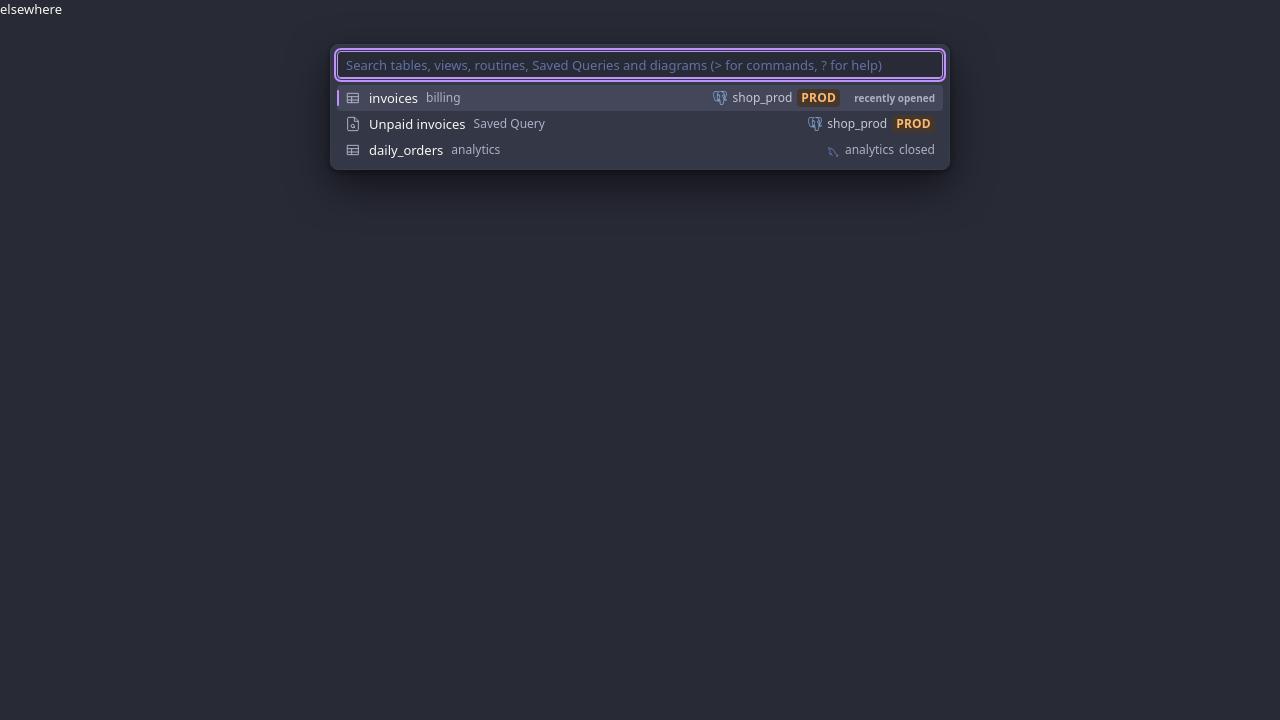
Test: question_mark_lists_the_prefixes
Replace the text in the dropdown with "?": (640, 65) [337,51,943,79]
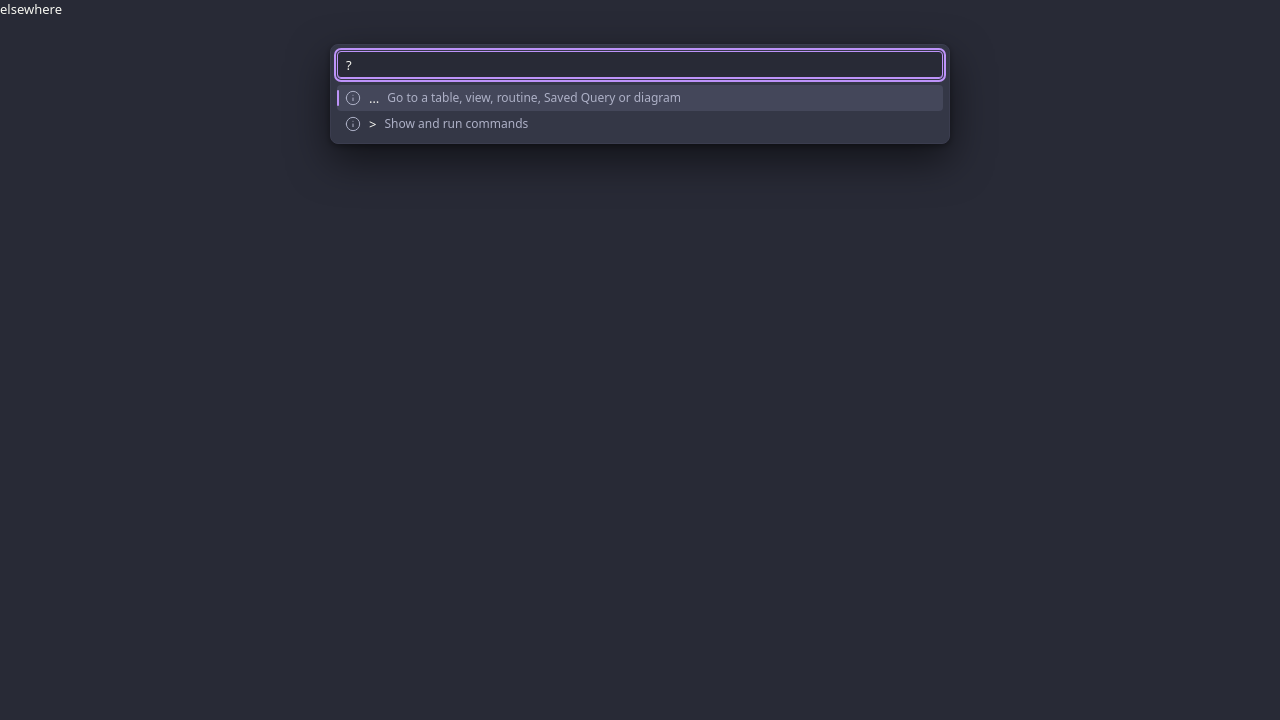
Now the number of options is 2, box [337,85,943,111]; [345,115,528,133]
Press ArrowDown in the dropdown, box [337,51,943,79]
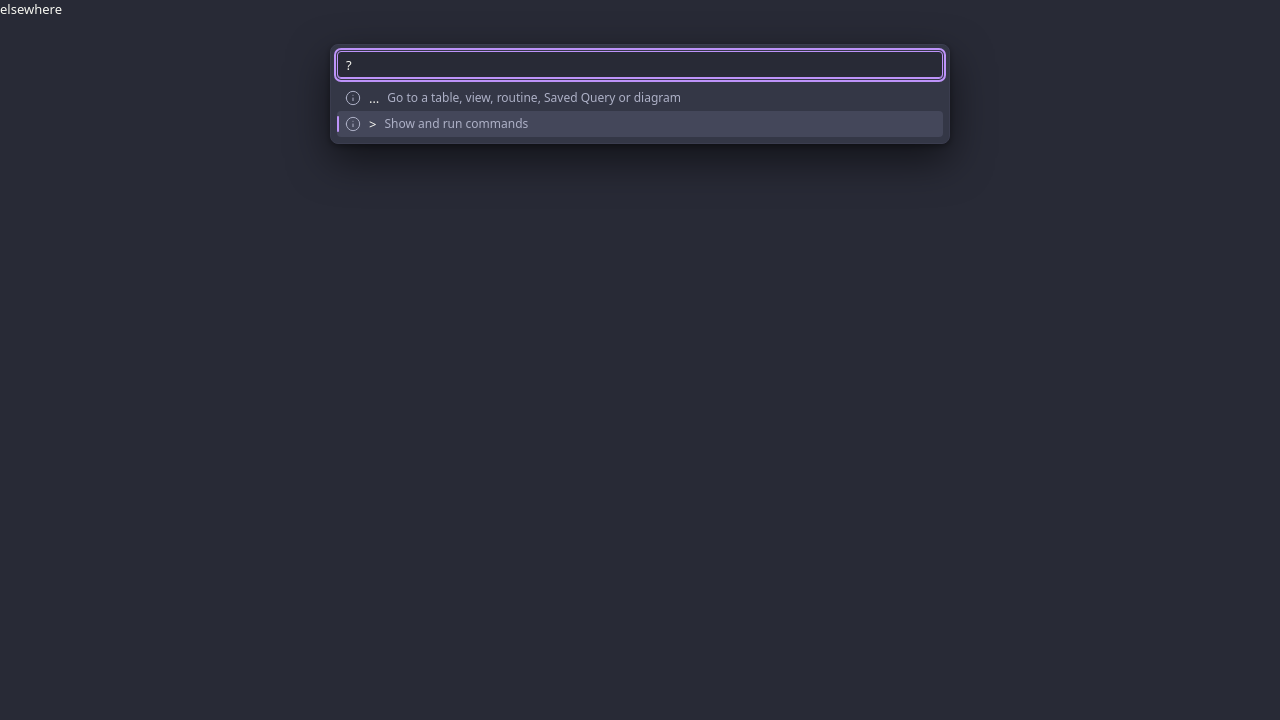
Press Enter in the dropdown, box [337,51,943,79]
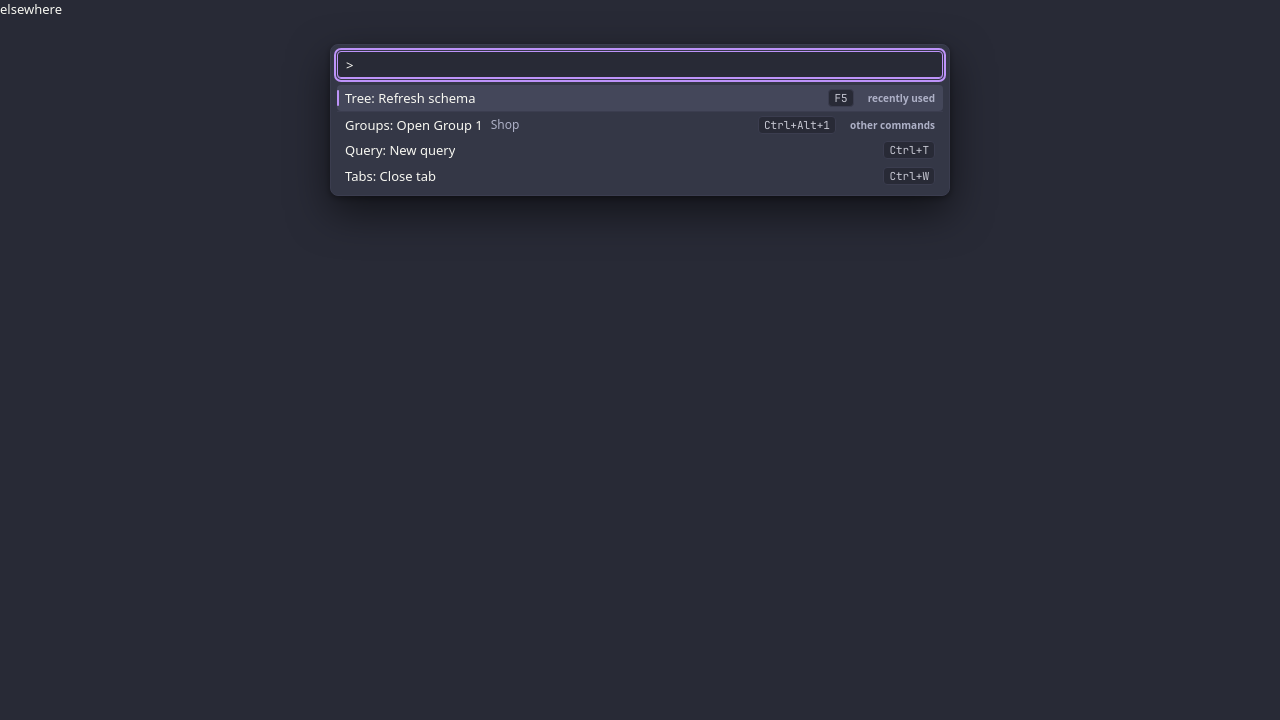
Now the dropdown holds ">", box [337,51,943,79]
